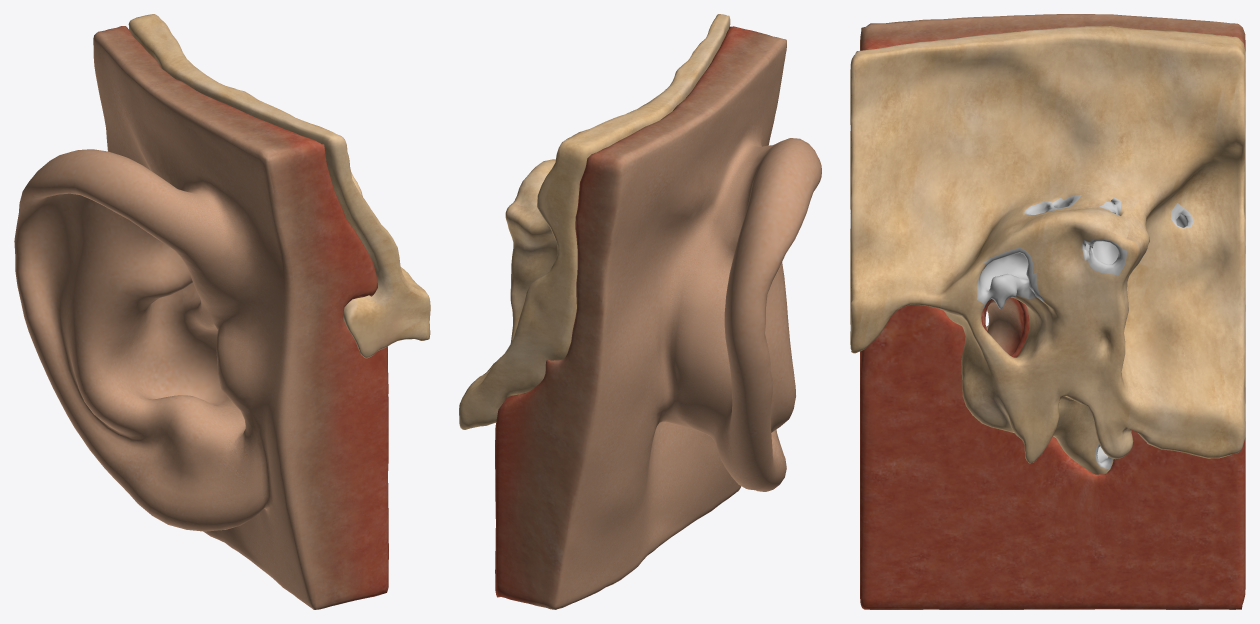
Rendered from Ear_VirtualX_Sketchfab.obj.
3 views of the same model, side by side, from view 1: azimuth 30°, elevation 25°; view 2: azimuth 150°, elevation 25°; view 3: azimuth 270°, elevation 25° (orthographic). The views are drawn at different scales.
Visible parts, largest first — view 1: Ear_mesh.001, Bone_mesh.002; view 2: Ear_mesh.001, Bone_mesh.002; view 3: Bone_mesh.002, Ear_mesh.001.
Part boxes in pixels (x1,y1,x2,y2): Ear_mesh.001: (14,26,388,609); Bone_mesh.002: (128,14,430,358); Ear_mesh.001: (495,26,821,609); Bone_mesh.002: (459,14,730,429); Bone_mesh.002: (850,26,1245,474); Ear_mesh.001: (860,14,1245,609).
Bounding box in the file's own units: 0.0491 × 0.079 × 0.0537.
